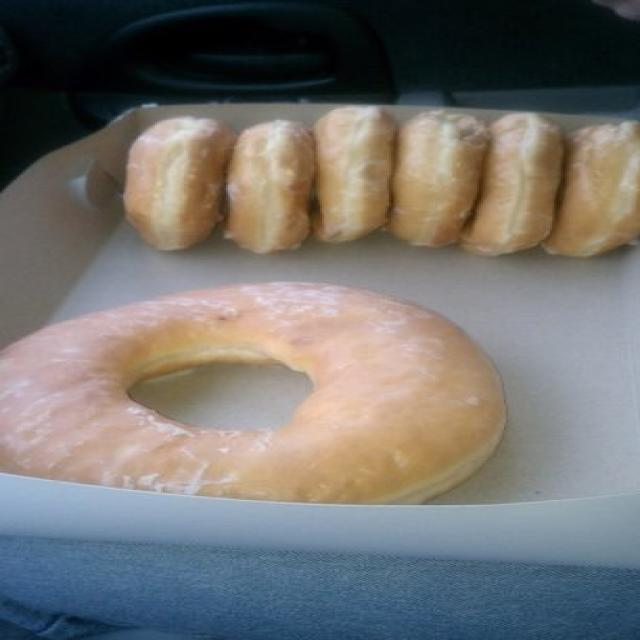Donuts: (2, 100, 640, 525)
